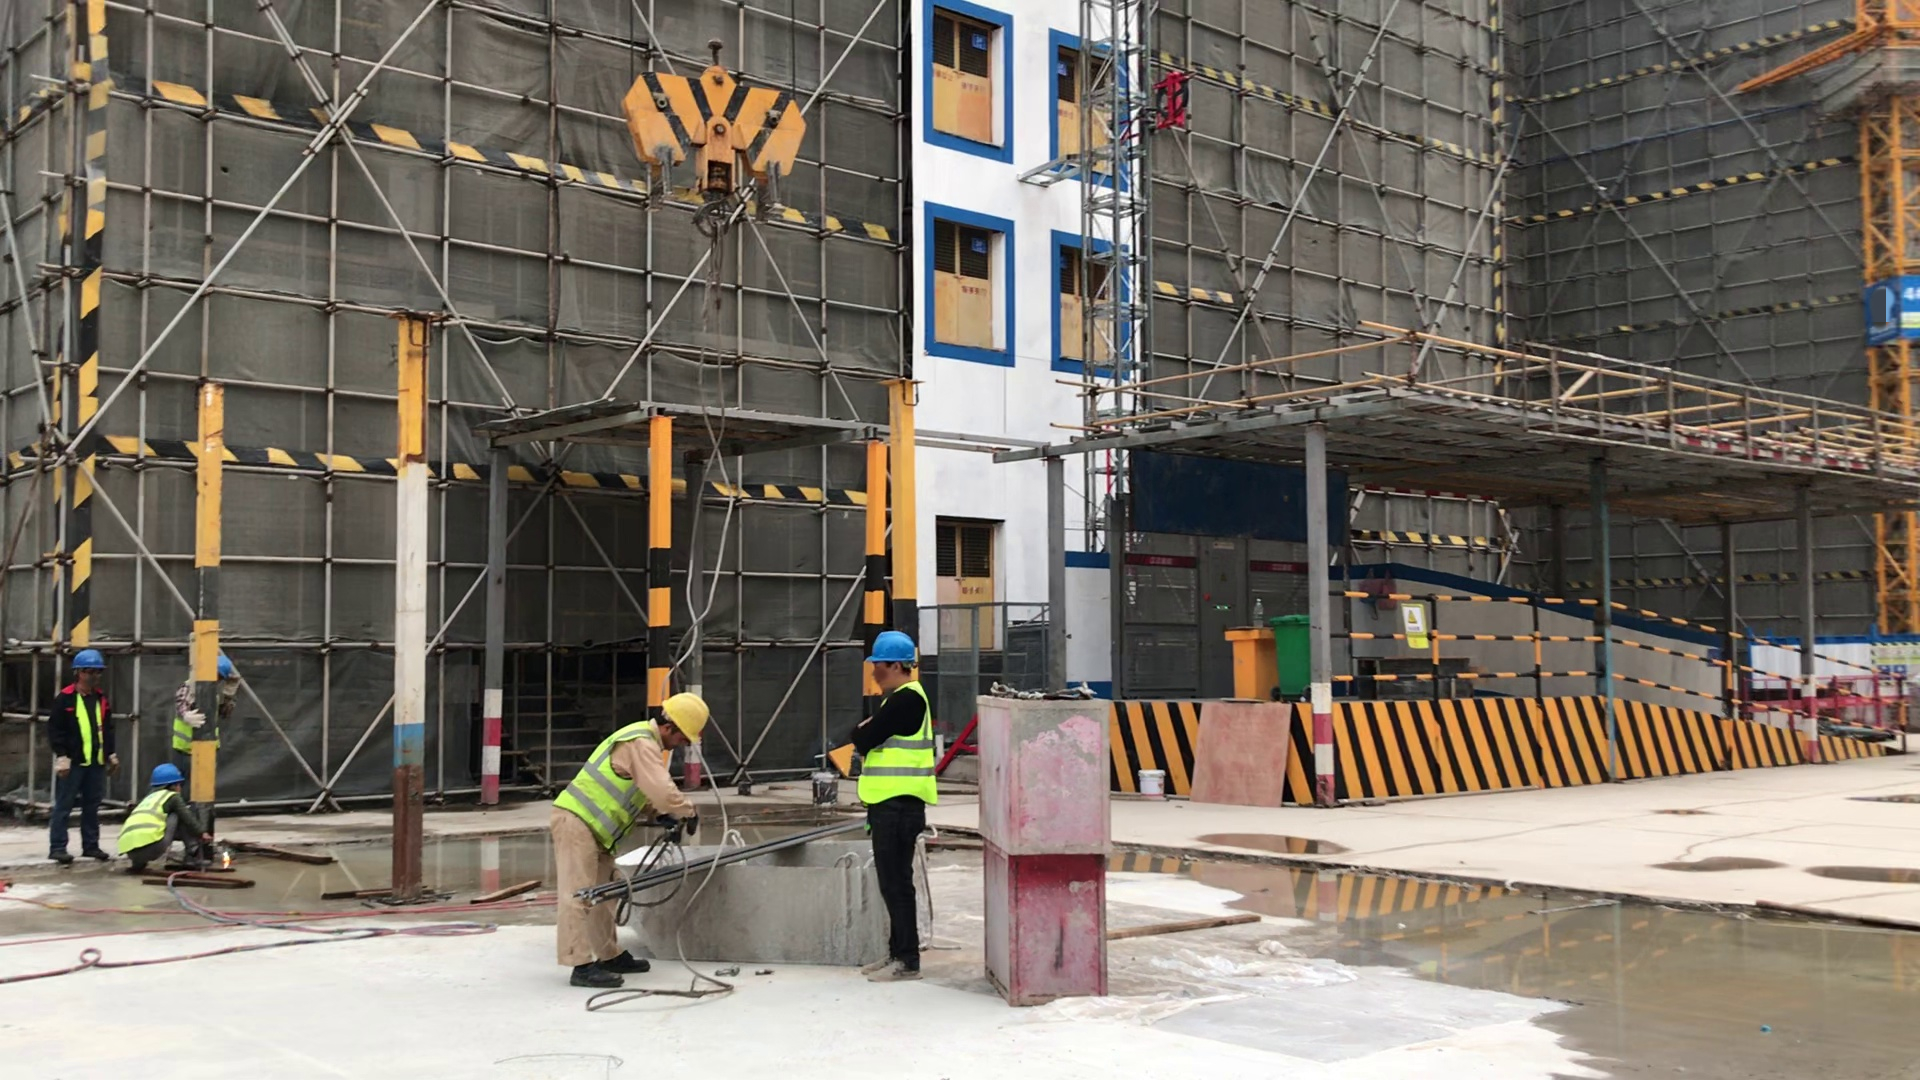helmet: (659, 689, 706, 744), (864, 632, 922, 665), (145, 760, 183, 788), (66, 645, 109, 670), (202, 655, 234, 682)
person: (543, 685, 713, 993), (845, 628, 938, 986), (50, 643, 119, 870), (110, 756, 216, 880), (165, 653, 243, 772)
vest: (551, 722, 680, 858), (851, 683, 941, 813), (120, 789, 182, 856)
